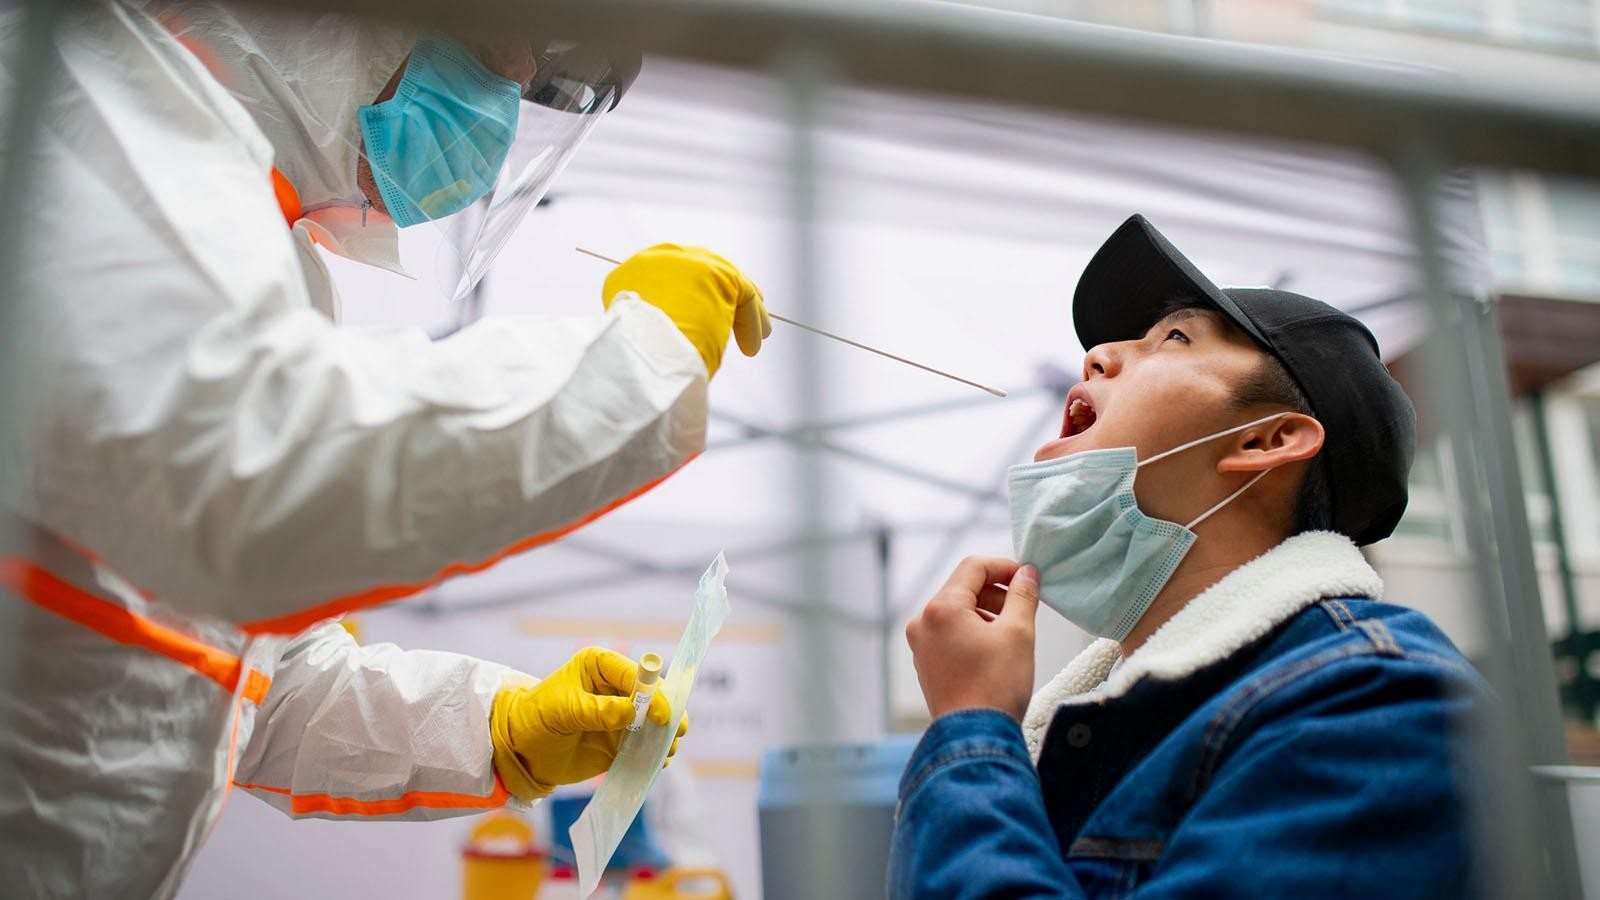Coverall: (1, 4, 494, 900)
Face_Shield: (387, 1, 651, 346)
Gloves: (498, 644, 687, 805), (594, 236, 784, 386)
with_mask: (1004, 321, 1223, 655), (362, 32, 525, 220)
